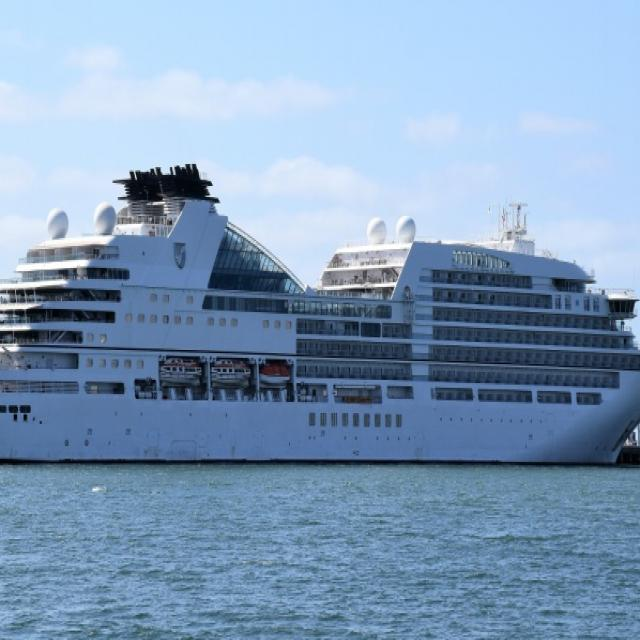cruises: (1, 156, 640, 479)
